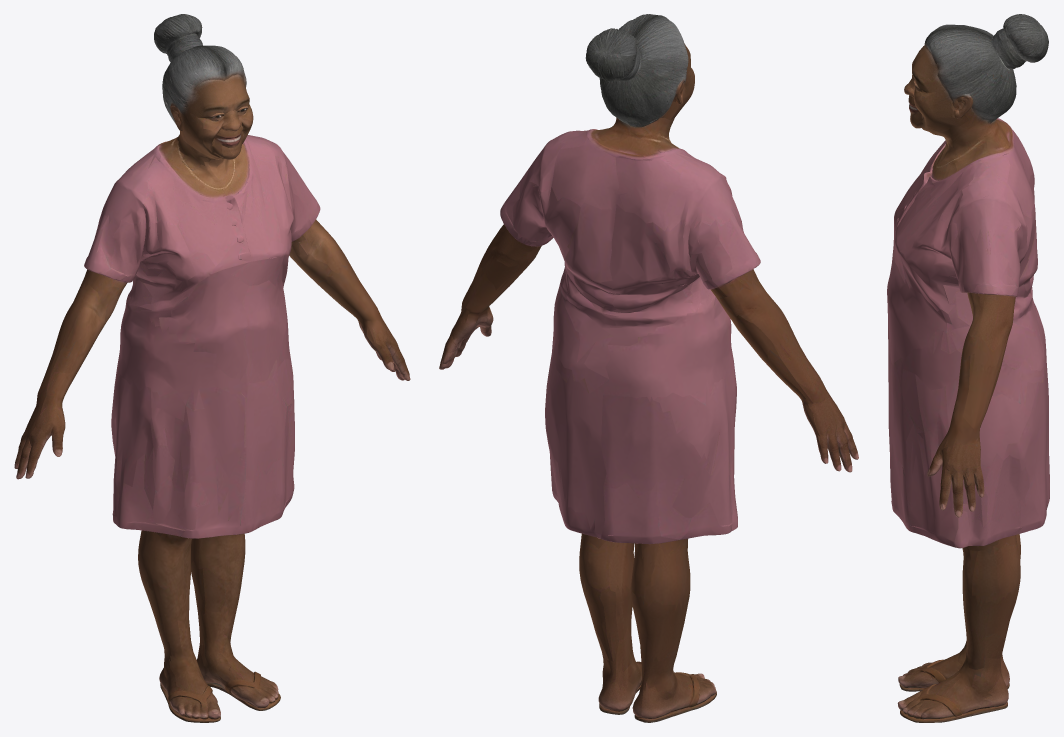
The model's file is npc-cida-boca.glb.
3 views of the same model, side by side, from view 1: azimuth 30°, elevation 25°; view 2: azimuth 150°, elevation 25°; view 3: azimuth 270°, elevation 25° (orthographic). The views are drawn at different scales.
Parts seen in each view (by area): view 1: output_unwrapped; view 2: output_unwrapped; view 3: output_unwrapped.
Boxes of the visible parts, <box> form: output_unwrapped: <box>14,14,410,722</box>; output_unwrapped: <box>439,14,858,722</box>; output_unwrapped: <box>887,14,1049,722</box>.
Size of the model in its own units: 1.17 by 1.9 by 0.4114.
1 material, 1 textured.
